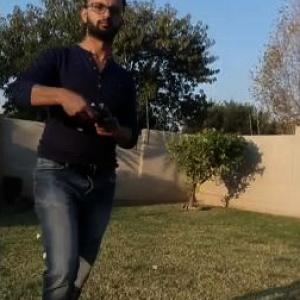follow: (1, 0, 141, 299)
